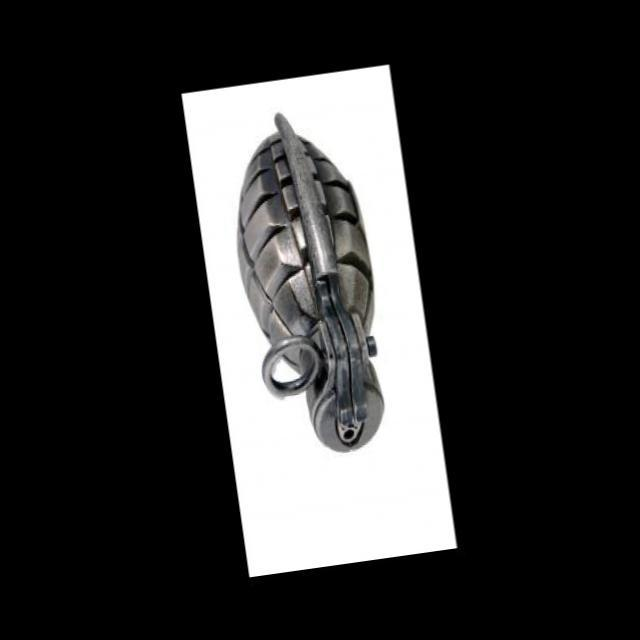grenade: (217, 117, 405, 480)
